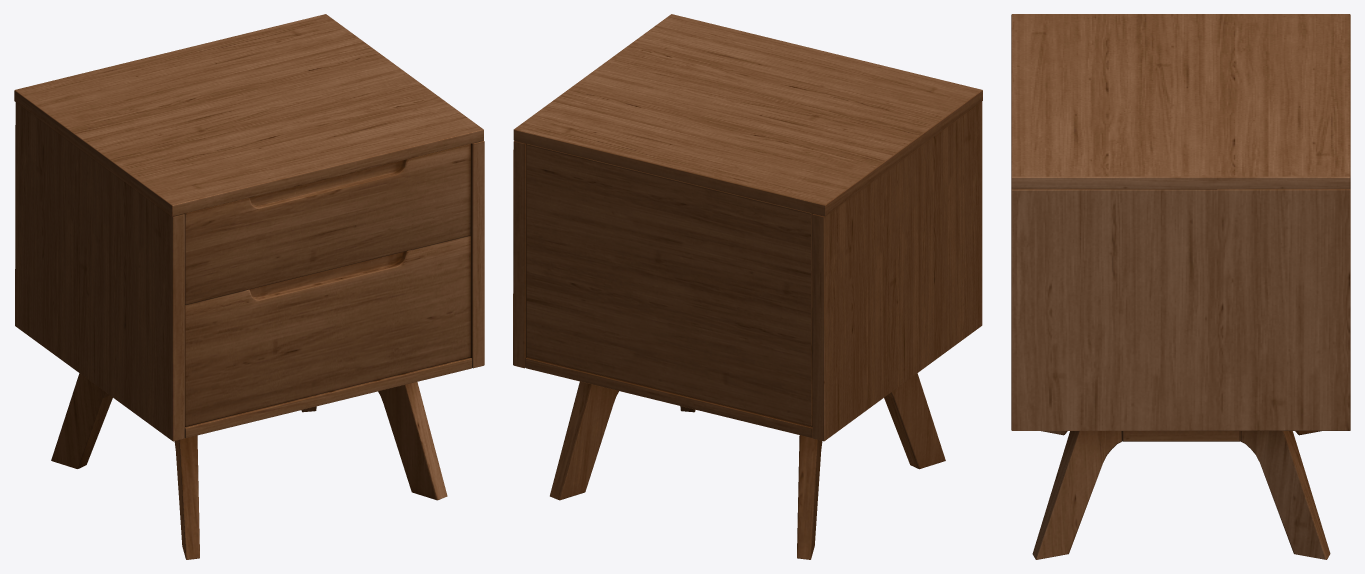
Rendered from jenson_bedside_table_dark_stain_oak.glb.
The picture shows the model from 3 angles, left to right: view 1: azimuth 30°, elevation 25°; view 2: azimuth 150°, elevation 25°; view 3: azimuth 270°, elevation 25°; orthographic projection. The views are drawn at different scales.
Parts seen in each view (by area): view 1: OAK; view 2: OAK; view 3: OAK.
Part boxes in pixels (x1=…): OAK: x1=14, y1=14, x2=484, y2=559; OAK: x1=513, y1=14, x2=982, y2=559; OAK: x1=1011, y1=14, x2=1350, y2=559.
Size of what is drawn, in the model's own units: 51.38 by 57.98 by 45.01.
2 materials, 2 textured.
